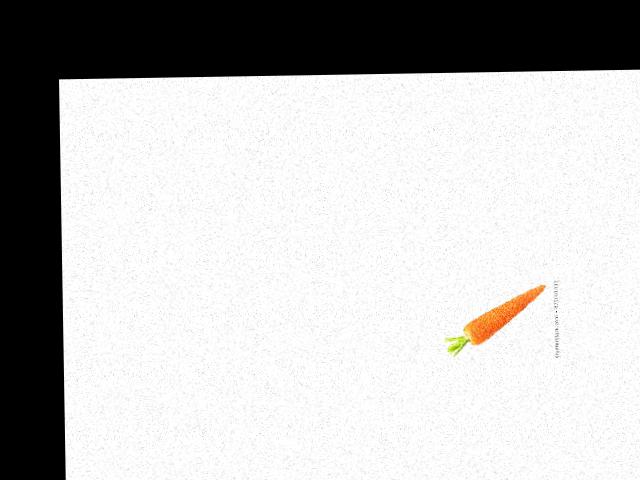carrot: (456, 279, 549, 354)
